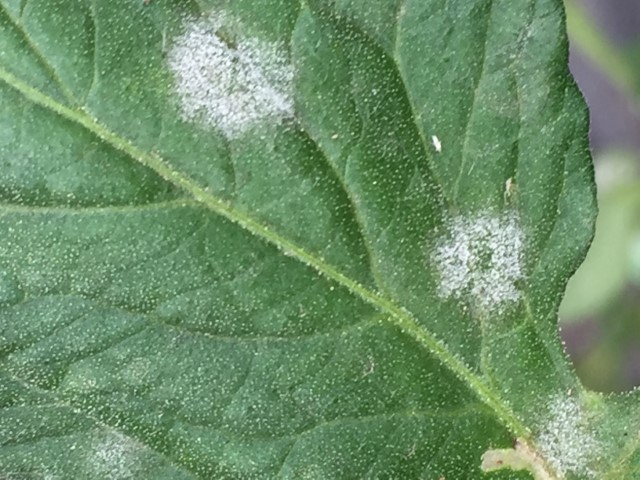oidio: (163, 11, 297, 141), (429, 208, 524, 316), (532, 388, 610, 478)
